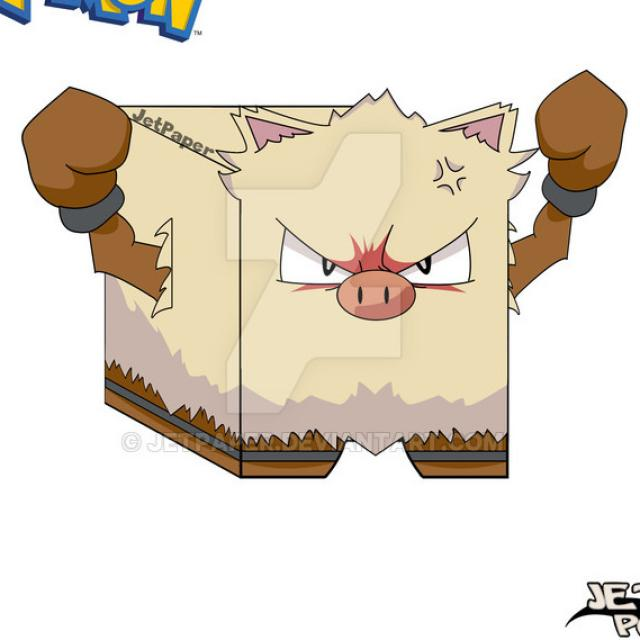Primeape: (59, 86, 590, 482)
